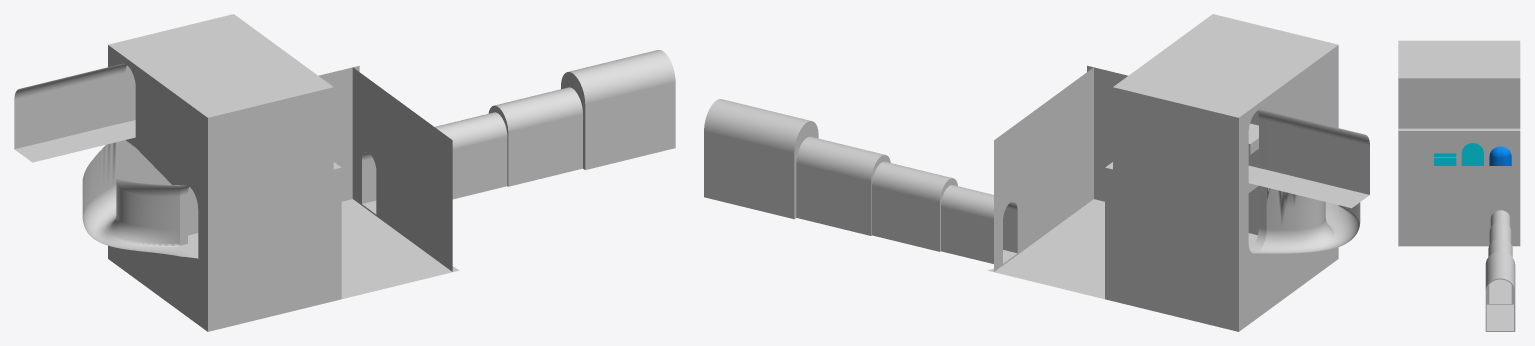
Rendered from room_2.glb.
The picture shows the model from 3 angles, left to right: view 1: azimuth 30°, elevation 25°; view 2: azimuth 150°, elevation 25°; view 3: azimuth 270°, elevation 25°; orthographic projection. The views are drawn at different scales.
Parts seen in each view (by area): view 1: Room_2; view 2: Room_2; view 3: Room_2.
Part boxes in pixels (x1,y1,x2,y2): Room_2: (14,14,675,331); Room_2: (704,14,1369,331); Room_2: (1398,40,1520,331).
Bounding box in the file's own units: 40.82 × 13 × 11.
